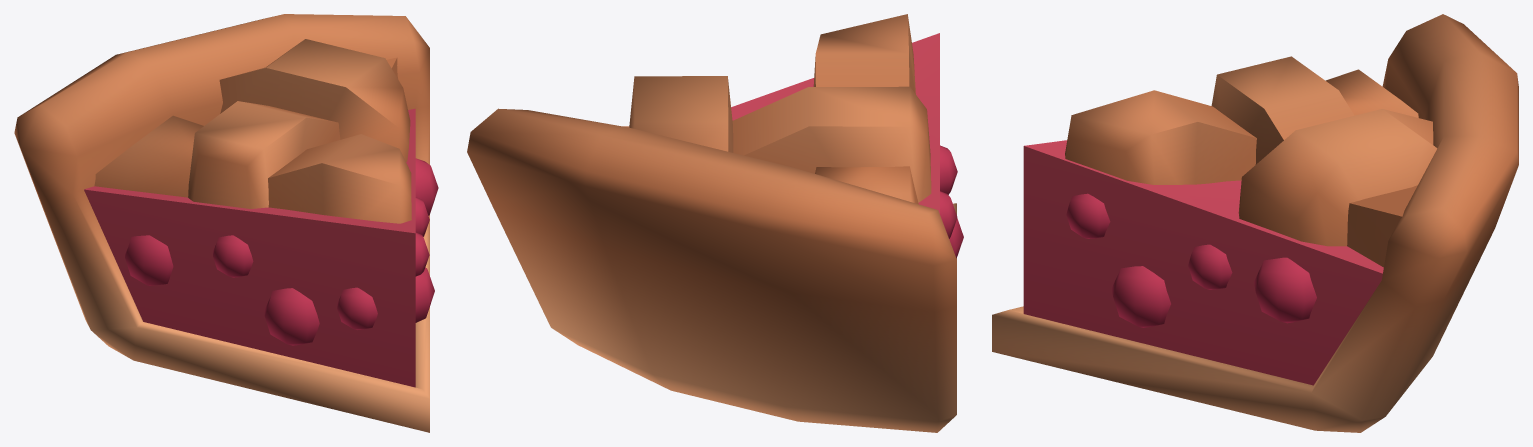
File: pie_cherry_slice.glb
3 renders of one model, left to right at view 1: azimuth 30°, elevation 25°; view 2: azimuth 150°, elevation 25°; view 3: azimuth 270°, elevation 25°, orthographic. The views are drawn at different scales.
Visible parts, largest first — view 1: pie_cherry_slice; view 2: pie_cherry_slice; view 3: pie_cherry_slice.
Part boxes in pixels (x1=…): pie_cherry_slice: x1=14, y1=14, x2=438, y2=432; pie_cherry_slice: x1=467, y1=14, x2=963, y2=432; pie_cherry_slice: x1=992, y1=14, x2=1518, y2=432.
Size of the model in its own units: 0.5577 by 0.3076 by 0.5707.
Materials: 1 (1 with a texture image).
